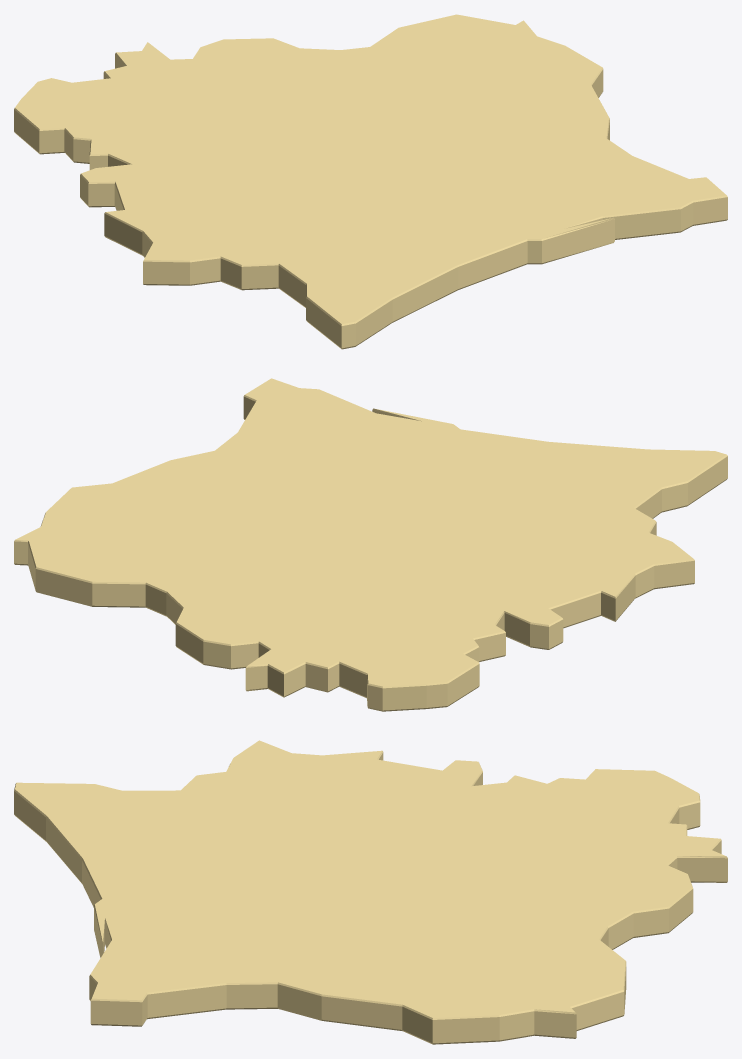
File: CIV.glb
3 views of the same model, one above another, from view 1: azimuth 30°, elevation 25°; view 2: azimuth 150°, elevation 25°; view 3: azimuth 270°, elevation 25° (orthographic). The views are drawn at different scales.
Size of the model in its own units: 1.53 by 0.068 by 1.66.
